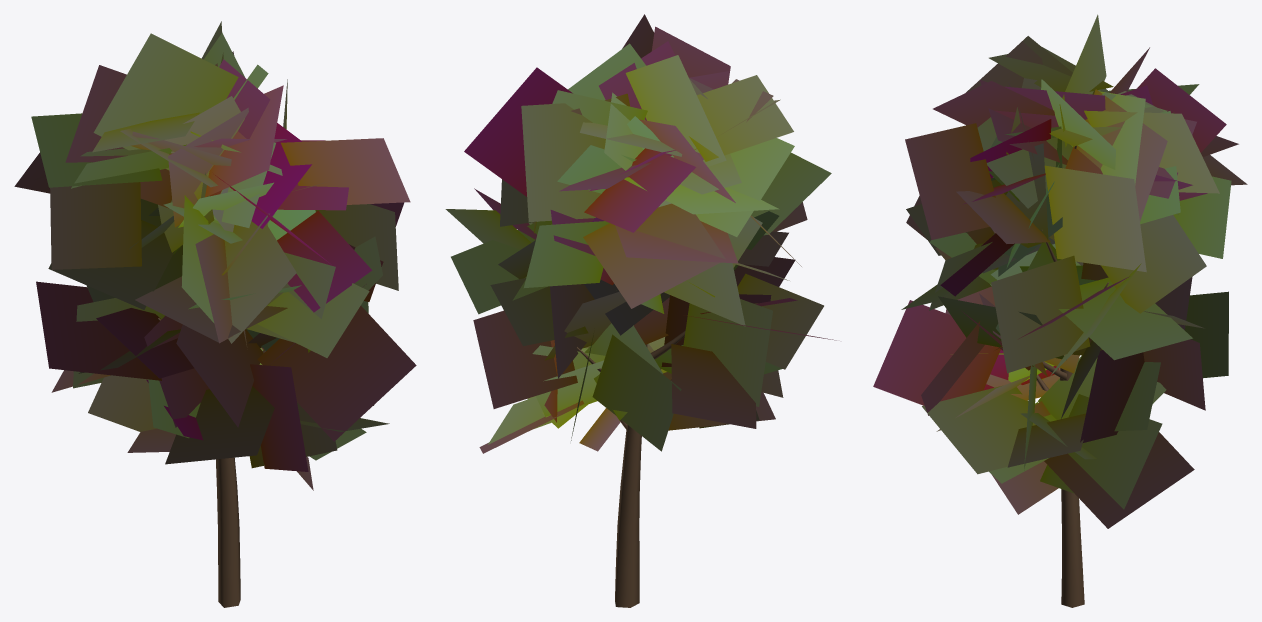
File: tree_birch_far.glb
The picture shows the model from 3 angles, left to right: view 1: azimuth 30°, elevation 25°; view 2: azimuth 150°, elevation 25°; view 3: azimuth 270°, elevation 25°; orthographic projection. The views are drawn at different scales.
Visible parts, largest first — view 1: Leaves, Trunk; view 2: Leaves, Trunk; view 3: Leaves, Trunk.
Part boxes in pixels (bbox=[...]): Leaves: bbox=[14, 21, 416, 490]; Trunk: bbox=[158, 318, 265, 607]; Leaves: bbox=[445, 14, 836, 453]; Trunk: bbox=[576, 330, 685, 607]; Leaves: bbox=[873, 14, 1247, 528]; Trunk: bbox=[991, 145, 1108, 607].
Size of the model in its own units: 5.47 by 8.11 by 4.94.
